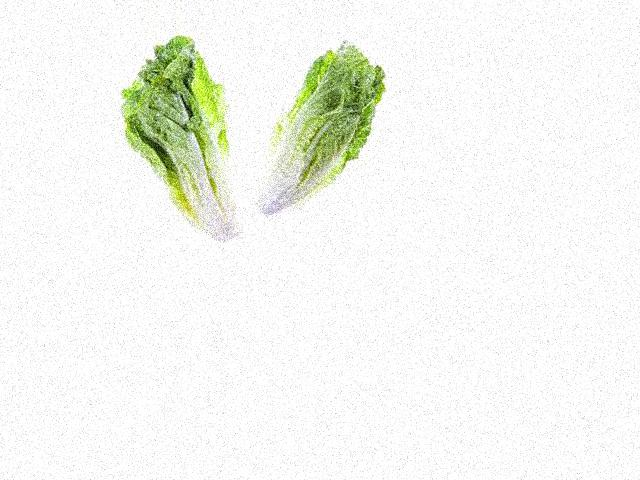lettuce: (91, 62, 244, 195)
